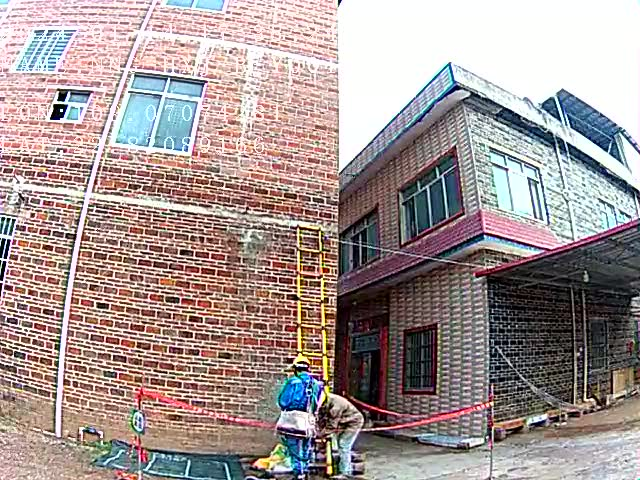halt: (294, 359, 314, 378)
